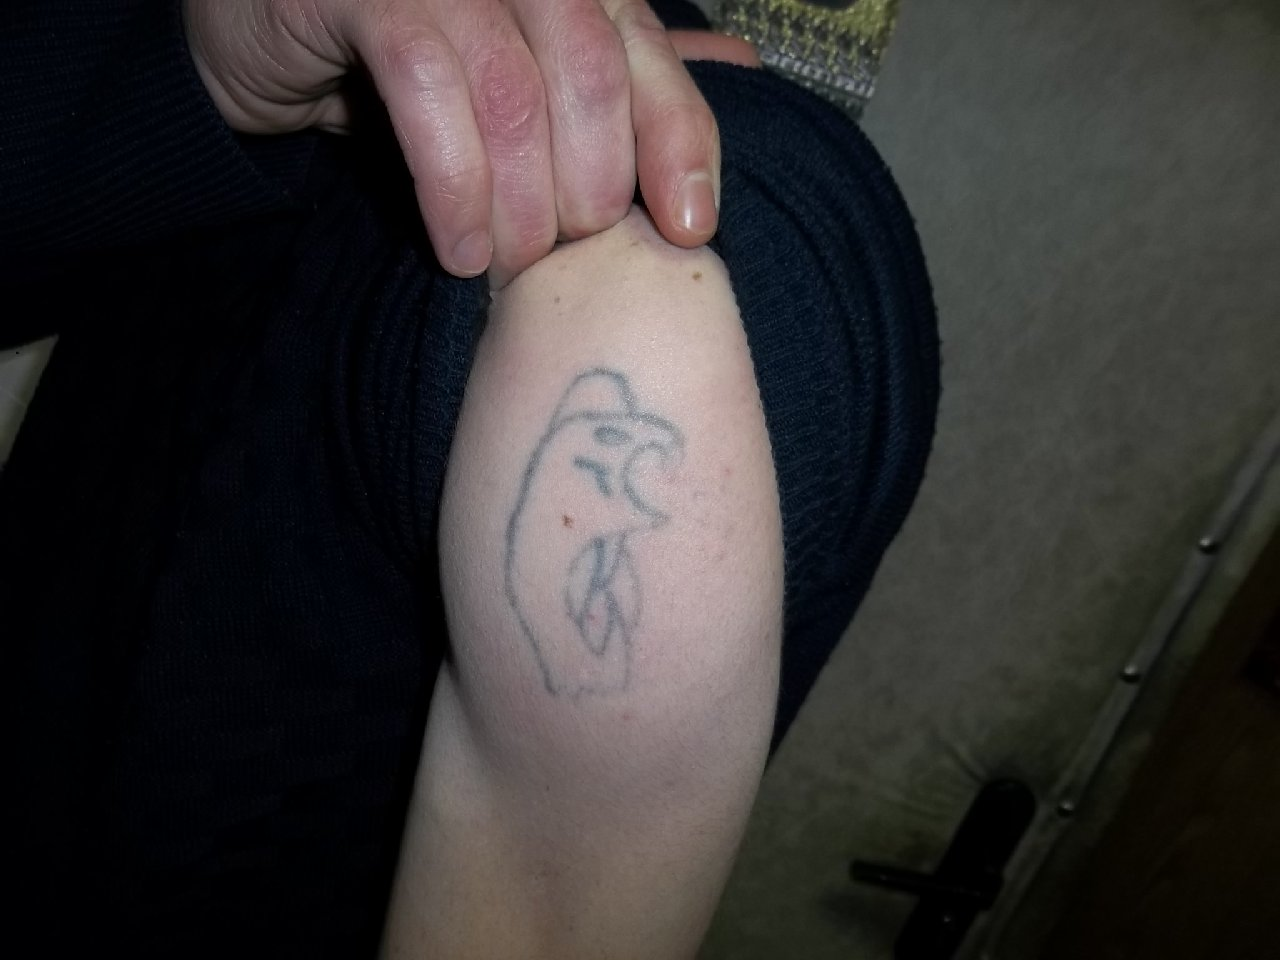tatu7_zmeya: (497, 346, 681, 764)
